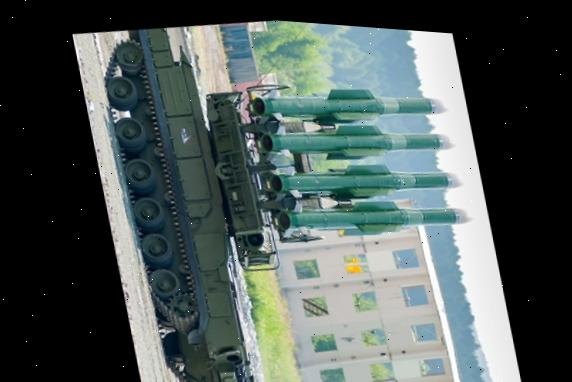armored_car: (91, 7, 516, 382)
